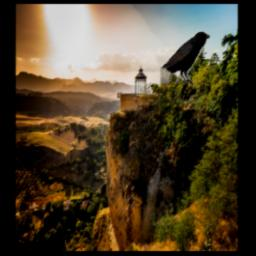Crow: (161, 31, 211, 86)
